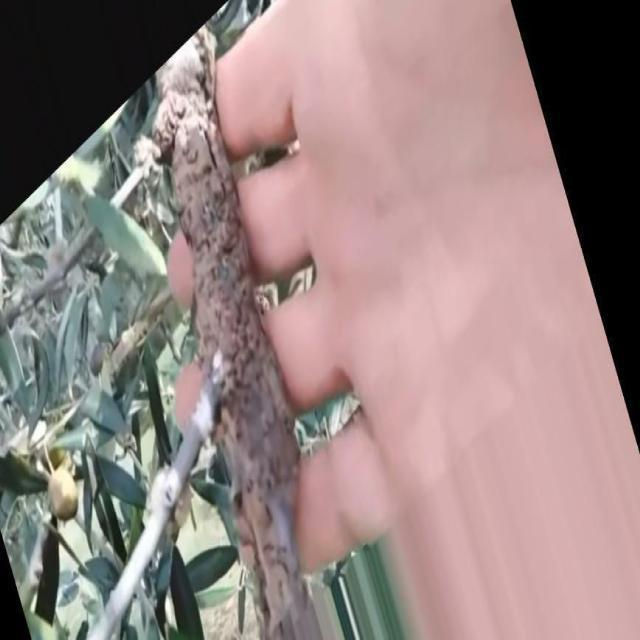Tuberculosis: (156, 71, 314, 590)
